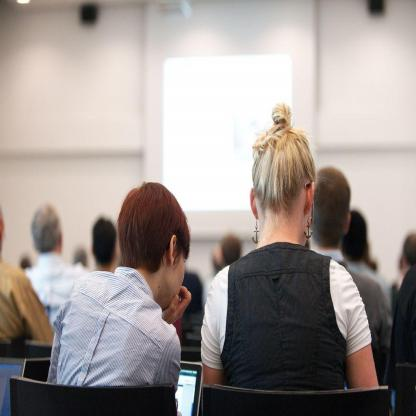board: (0, 357, 27, 415), (174, 364, 202, 415)
